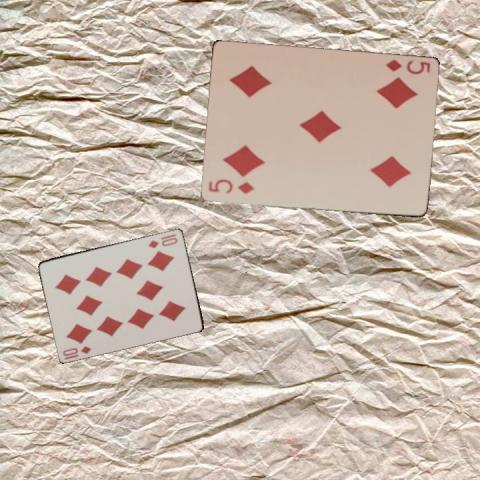10d: (60, 342, 93, 360), (145, 234, 179, 249)
5d: (205, 177, 255, 196), (383, 57, 431, 76)
